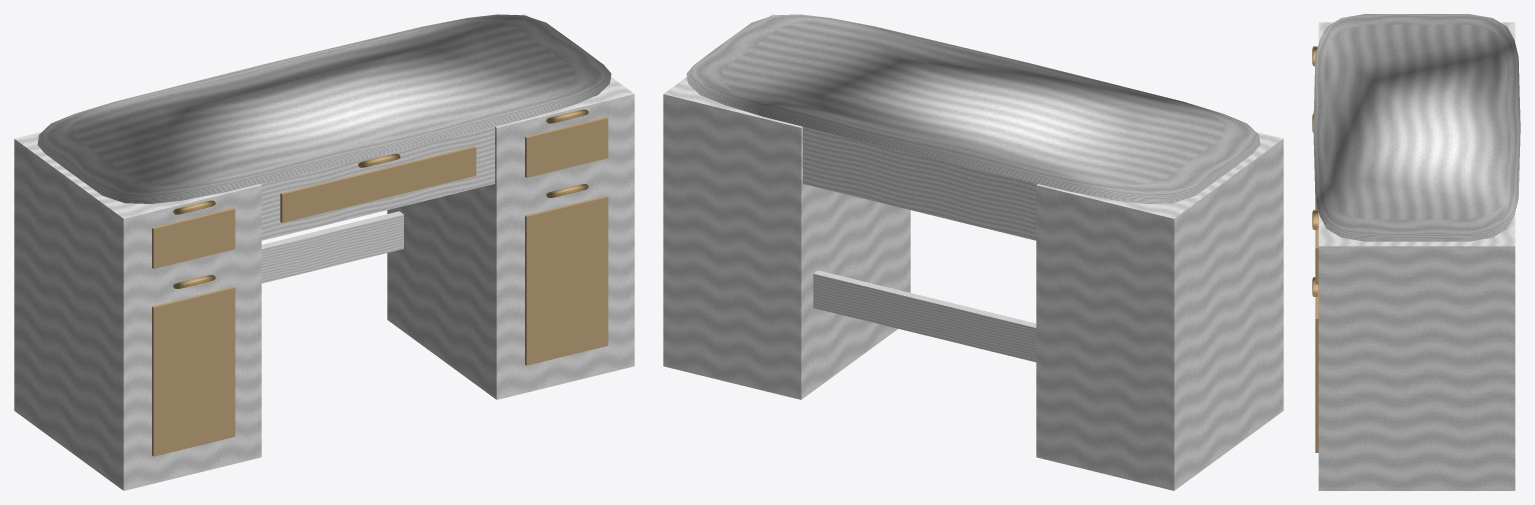
3 renders of one model, left to right at view 1: azimuth 30°, elevation 25°; view 2: azimuth 150°, elevation 25°; view 3: azimuth 270°, elevation 25°, orthographic. The views are drawn at different scales.
Parts seen in each view (by area): view 1: 1 desktop, 2 left_pedestal, 3 right_pedestal, 8 left_cabinet_door_rattan, 12 right_cabinet_door_rattan, 4 center_drawer, 14 center_drawer_rattan, 5 back_crossbar, 6 left_top_drawer_rattan, 10 right_top_drawer_rattan; view 2: 2 left_pedestal, 1 desktop, 3 right_pedestal, 4 center_drawer, 5 back_crossbar; view 3: 3 right_pedestal, 1 desktop, 12 right_cabinet_door_rattan, 2 left_pedestal.
Boxes of the visible parts, x1,y1,x2,y2 form: 1 desktop: [37, 14, 611, 203]; 2 left_pedestal: [14, 132, 261, 490]; 3 right_pedestal: [387, 14, 634, 399]; 8 left_cabinet_door_rattan: [152, 286, 235, 456]; 12 right_cabinet_door_rattan: [525, 195, 608, 365]; 4 center_drawer: [260, 127, 494, 240]; 14 center_drawer_rattan: [280, 146, 476, 222]; 5 back_crossbar: [261, 211, 403, 283]; 6 left_top_drawer_rattan: [152, 208, 235, 268]; 10 right_top_drawer_rattan: [525, 117, 608, 177]; 2 left_pedestal: [1036, 132, 1283, 490]; 1 desktop: [686, 14, 1260, 203]; 3 right_pedestal: [663, 14, 910, 399]; 4 center_drawer: [803, 127, 1037, 240]; 5 back_crossbar: [813, 270, 1036, 362]; 3 right_pedestal: [1318, 213, 1515, 490]; 1 desktop: [1313, 14, 1520, 241]; 12 right_cabinet_door_rattan: [1315, 291, 1318, 452]; 2 left_pedestal: [1318, 22, 1515, 42].
Bounding box in the file's own units: 1.87 × 1 × 0.7333.
3 materials, 1 textured.
